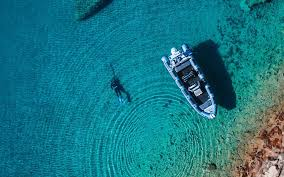boat: (161, 43, 218, 120)
